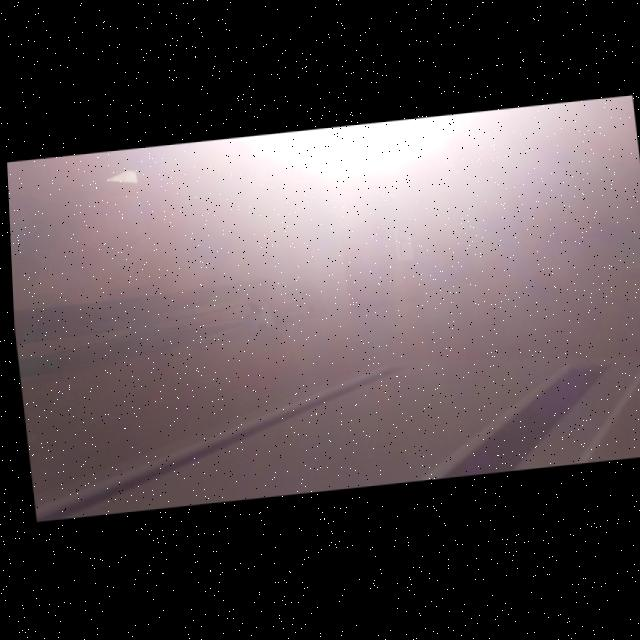F: (395, 232, 405, 258)
